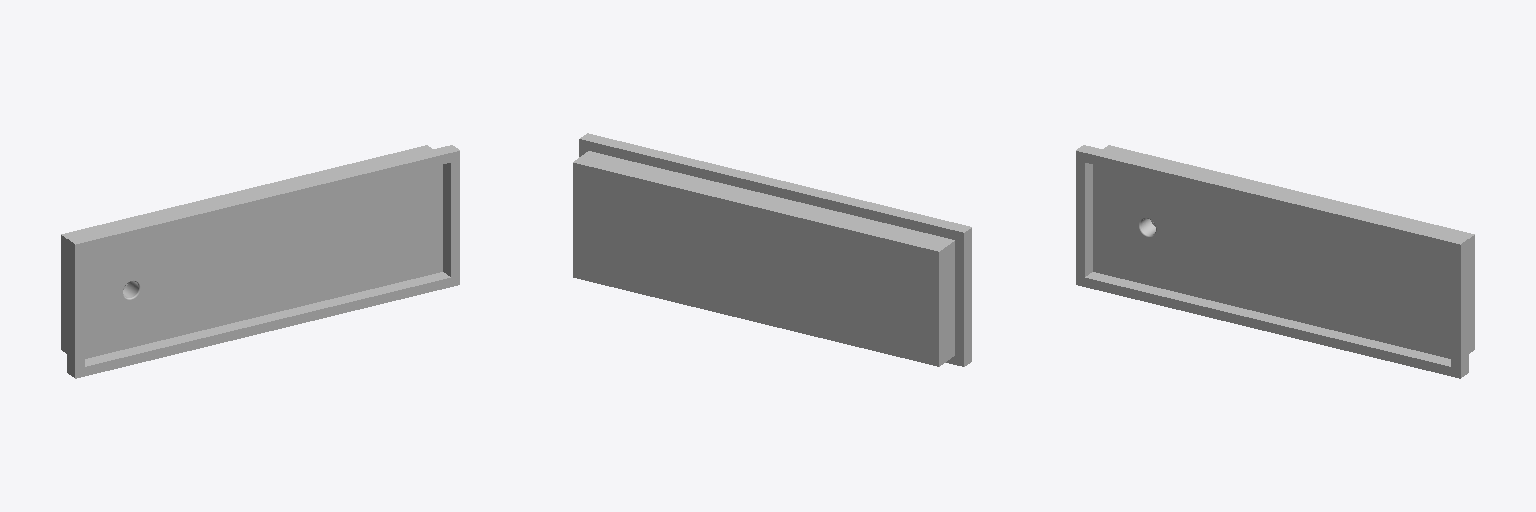
Rendered from Hole 1.obj.
3 views of the same model, side by side, from view 1: azimuth 30°, elevation 25°; view 2: azimuth 150°, elevation 25°; view 3: azimuth 330°, elevation 25° (orthographic).
Visible parts, largest first — view 1: mesh27, mesh16, mesh22, mesh14, mesh19, mesh30, mesh10, mesh4, mesh8, mesh0, mesh31; view 2: mesh32, mesh30, mesh17, mesh14, mesh31, mesh11, mesh8; view 3: mesh27, mesh16, mesh22, mesh14, mesh19, mesh30, mesh4, mesh10, mesh2, mesh6, mesh29.
Boxes of the visible parts, box(x1,y1,x2,y2) form: mesh27: box(85, 165, 442, 358); mesh16: box(85, 153, 450, 251); mesh22: box(85, 278, 450, 375); mesh14: box(77, 147, 450, 241); mesh19: box(85, 272, 450, 366); mesh30: box(61, 145, 432, 238); mesh10: box(75, 242, 84, 378); mesh4: box(451, 151, 459, 286); mesh8: box(67, 239, 74, 377); mesh0: box(443, 163, 450, 276); mesh31: box(61, 235, 66, 353); mesh32: box(573, 163, 938, 366); mesh30: box(573, 151, 954, 251); mesh17: box(589, 141, 954, 239); mesh14: box(590, 135, 961, 230); mesh31: box(939, 241, 954, 366); mesh11: box(955, 231, 963, 366); mesh8: box(964, 228, 971, 366); mesh27: box(1093, 165, 1450, 358); mesh16: box(1085, 153, 1450, 251); mesh22: box(1085, 278, 1450, 375); mesh14: box(1085, 147, 1458, 241); mesh19: box(1085, 272, 1450, 366); mesh30: box(1103, 145, 1474, 238); mesh4: box(1451, 242, 1460, 378); mesh10: box(1076, 151, 1084, 286); mesh2: box(1461, 239, 1468, 377); mesh6: box(1085, 163, 1092, 276); mesh29: box(1469, 235, 1474, 353).
Size of the model in its own units: 21 by 7 by 2.25.